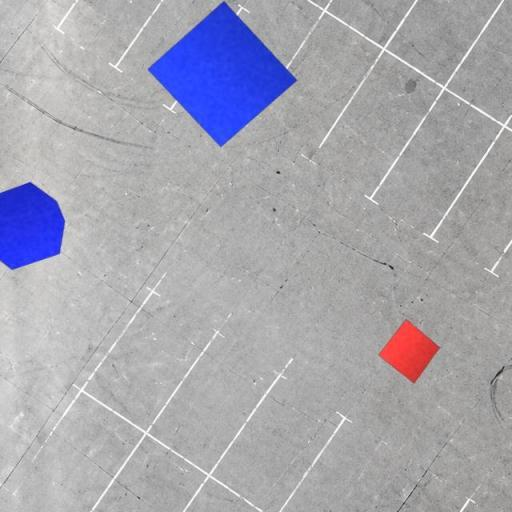BLUE_SQUARE: (146, 0, 298, 147)
RED_SQUARE: (378, 318, 440, 385)
